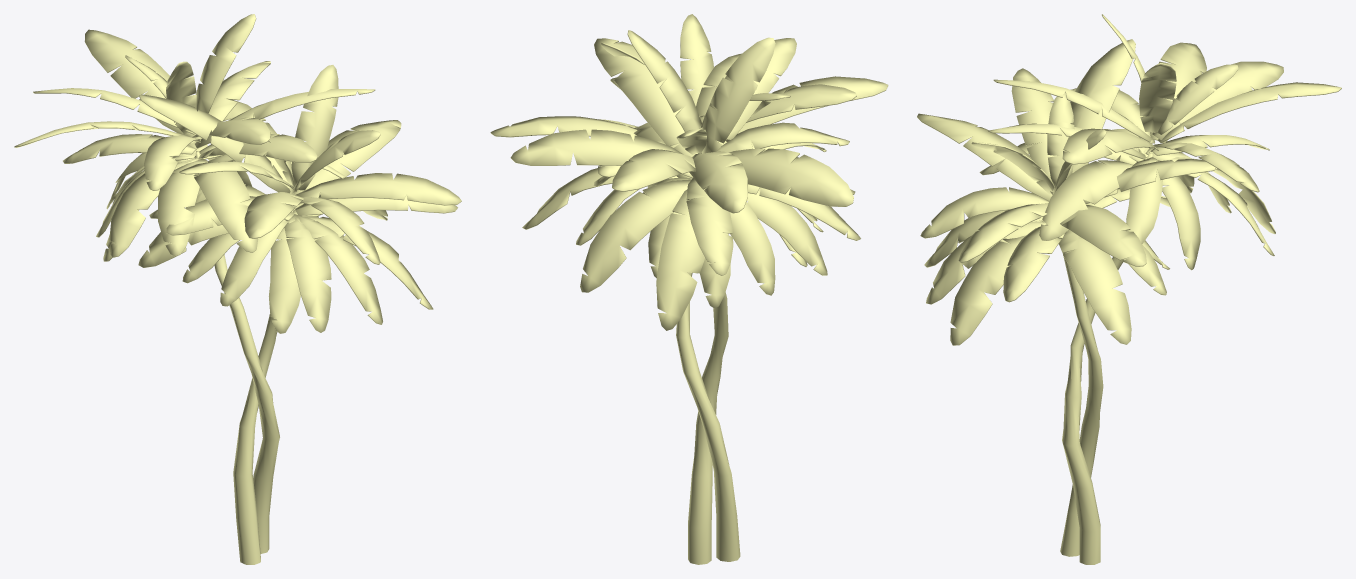
Rendered from MangaKa Props - N_C_Veg_PalmTree_02.glb.
3 views of the same model, side by side, from view 1: azimuth 30°, elevation 25°; view 2: azimuth 150°, elevation 25°; view 3: azimuth 270°, elevation 25° (orthographic). The views are drawn at different scales.
Visible parts, largest first — view 1: N_C_Veg_PalmTree_02_Leaves_blueScreen, N_C_Veg_PalmTree_02_blueScreen; view 2: N_C_Veg_PalmTree_02_Leaves_blueScreen, N_C_Veg_PalmTree_02_blueScreen; view 3: N_C_Veg_PalmTree_02_Leaves_blueScreen, N_C_Veg_PalmTree_02_blueScreen.
Part boxes in pixels (x1,y1,x2,y2): N_C_Veg_PalmTree_02_Leaves_blueScreen: [14, 14, 461, 333]; N_C_Veg_PalmTree_02_blueScreen: [195, 151, 292, 564]; N_C_Veg_PalmTree_02_Leaves_blueScreen: [490, 14, 888, 330]; N_C_Veg_PalmTree_02_blueScreen: [676, 272, 740, 564]; N_C_Veg_PalmTree_02_Leaves_blueScreen: [917, 14, 1341, 345]; N_C_Veg_PalmTree_02_blueScreen: [1060, 152, 1153, 564].
Bounding box in the file's own units: 8.79 × 11.81 × 8.87.
